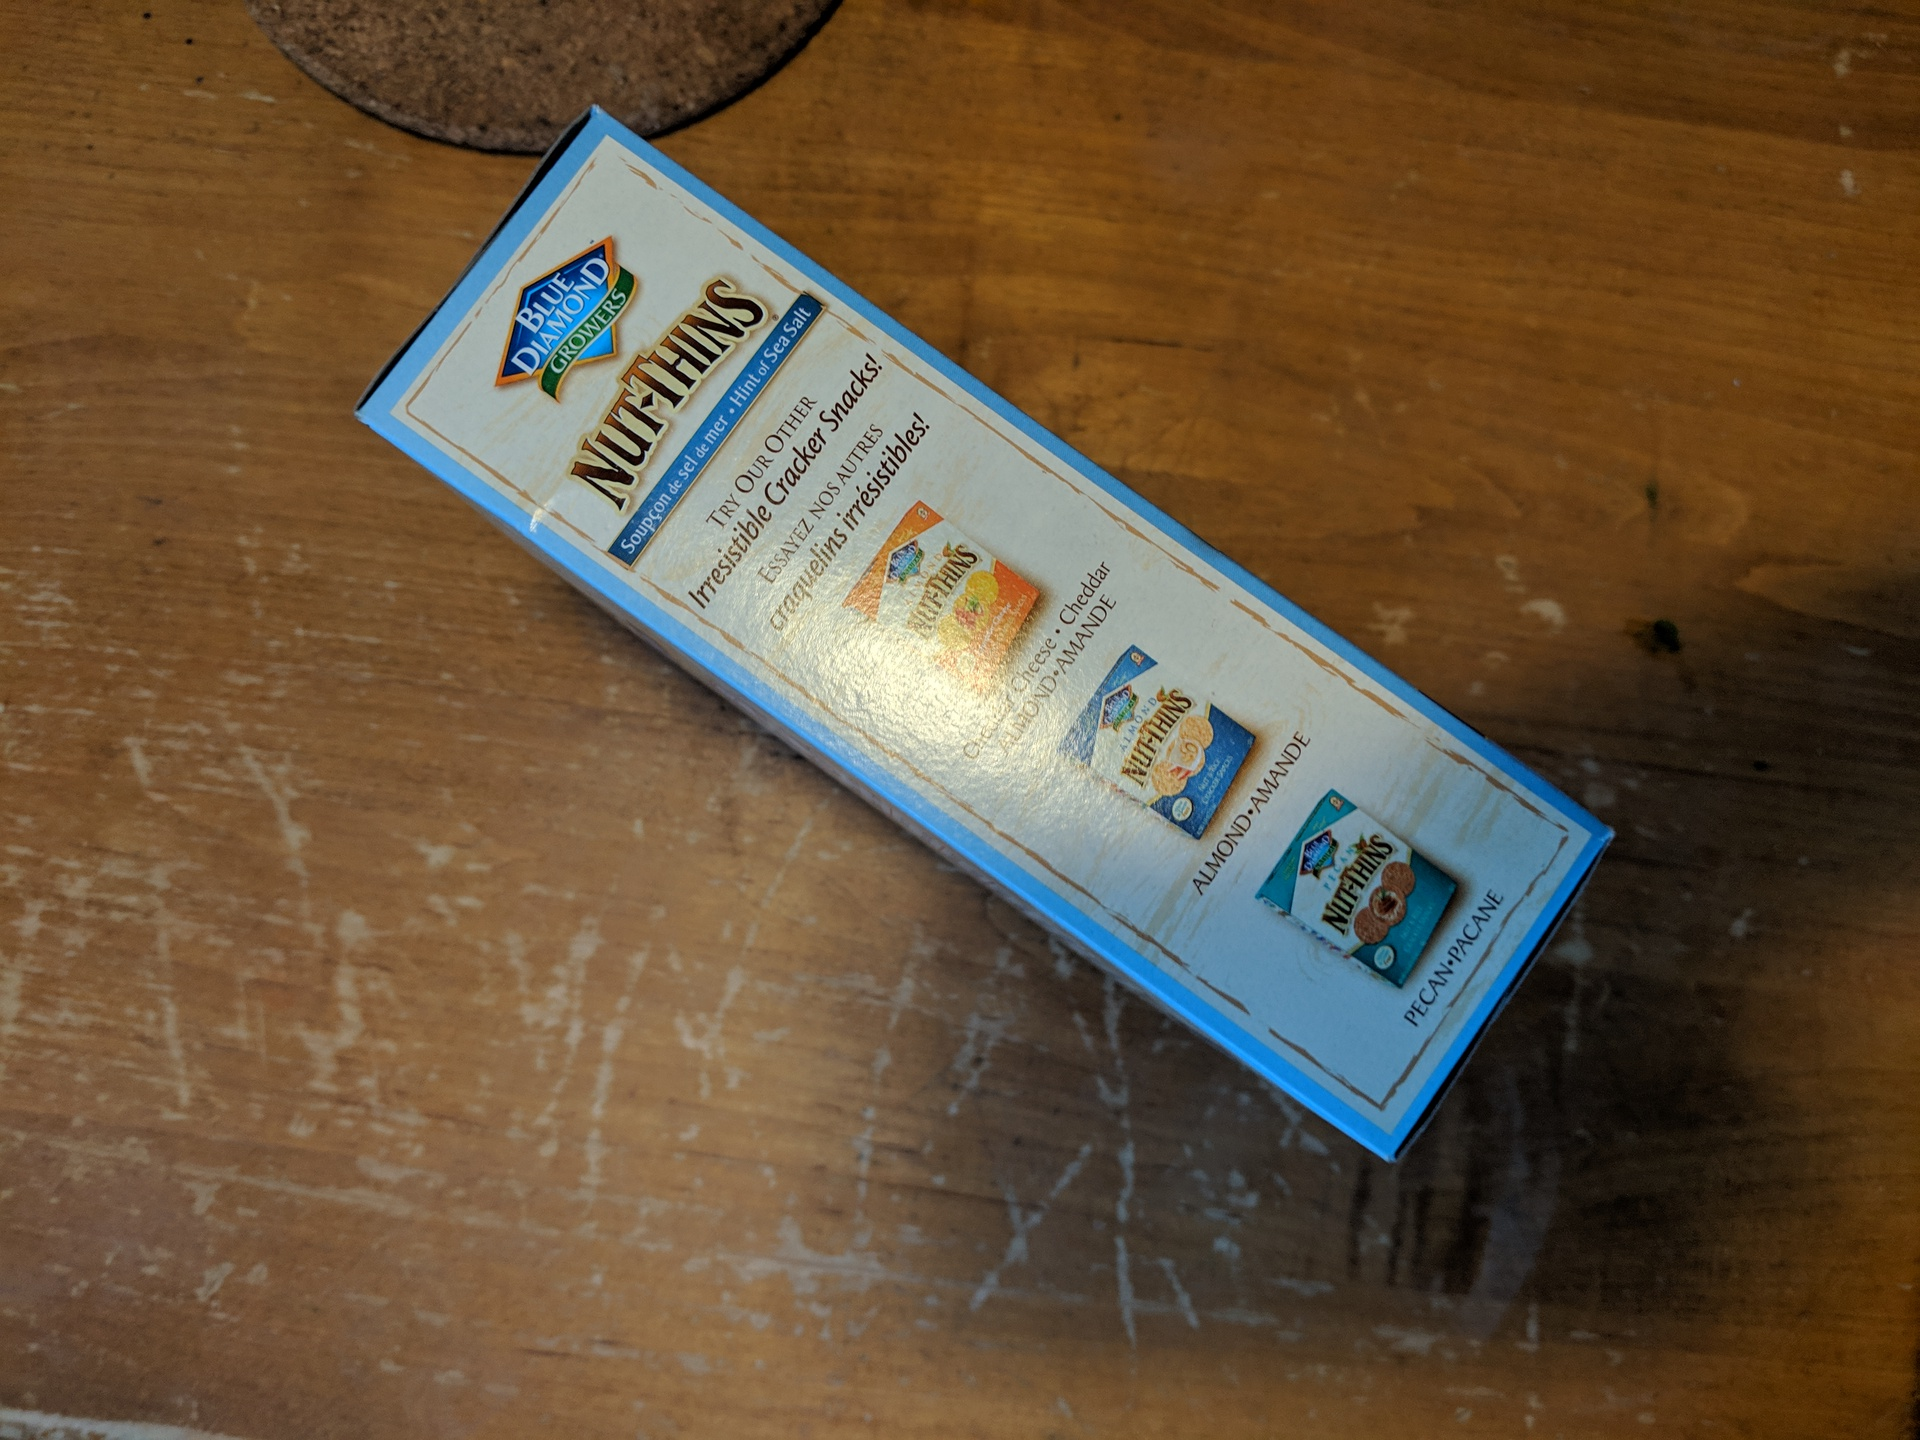blue_diamond_nut_thins_almond_seasalt: (466, 210, 1516, 1053)
